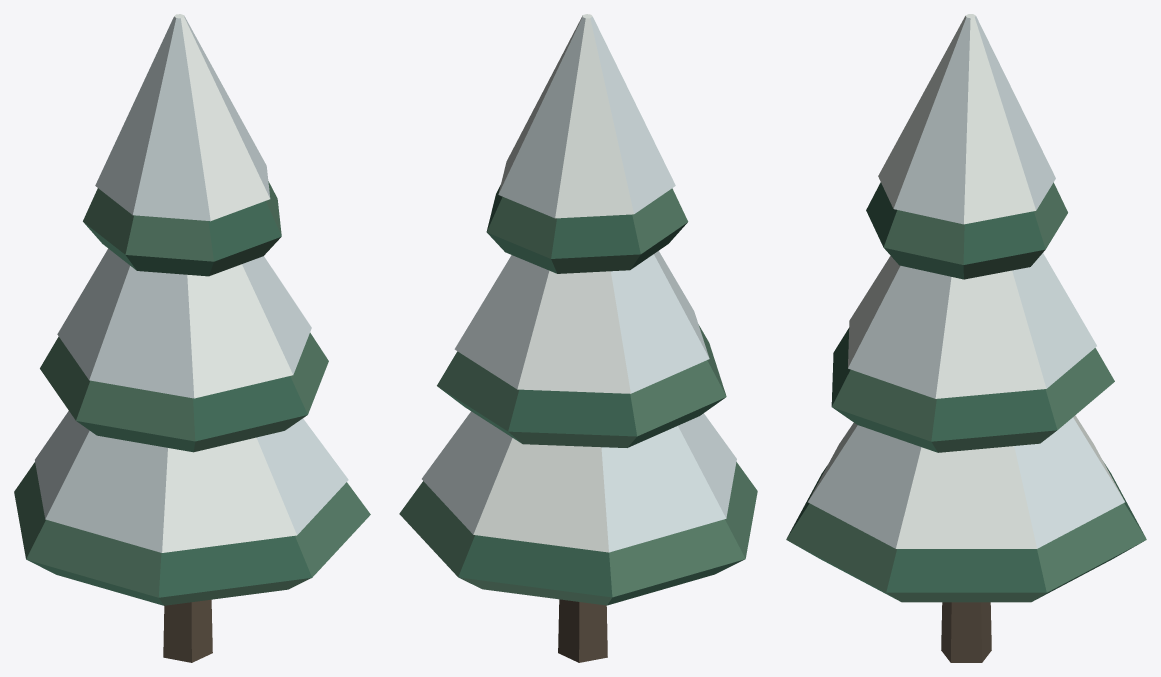
File: Tree_SnowPine.fbx
3 renders of one model, left to right at view 1: azimuth 30°, elevation 25°; view 2: azimuth 150°, elevation 25°; view 3: azimuth 270°, elevation 25°, orthographic.
Parts seen in each view (by area): view 1: Tree_SnowPine; view 2: Tree_SnowPine; view 3: Tree_SnowPine.
Boxes of the visible parts, x1,y1,x2,y2 form: Tree_SnowPine: [14, 14, 370, 662]; Tree_SnowPine: [399, 14, 757, 662]; Tree_SnowPine: [786, 14, 1146, 662].
Size of the model in its own units: 1.25 by 2.5 by 1.29.
